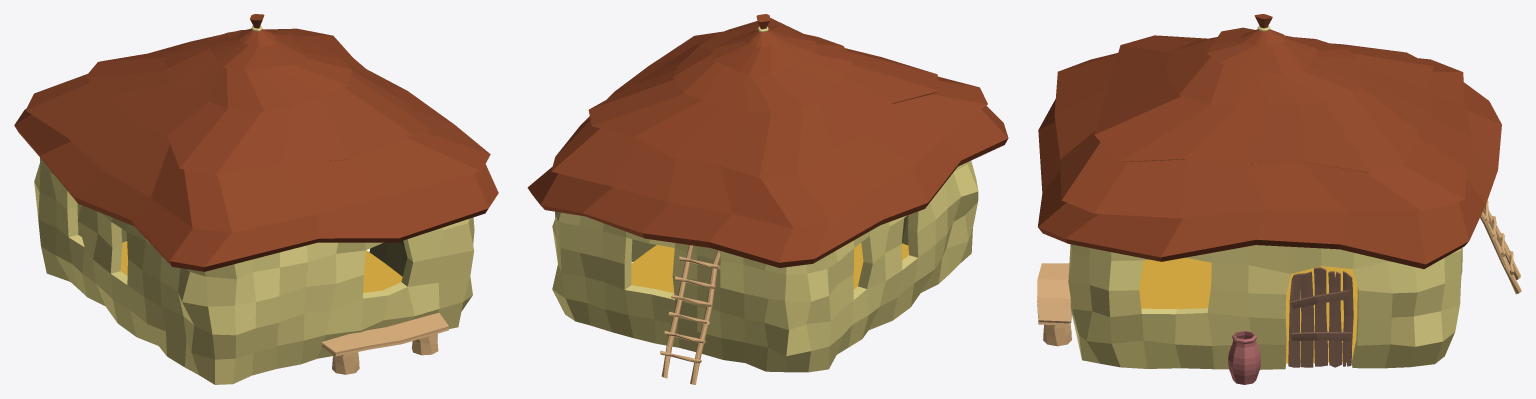
The model's file is casa3.fbx.
The picture shows the model from 3 angles, left to right: view 1: azimuth 30°, elevation 25°; view 2: azimuth 150°, elevation 25°; view 3: azimuth 270°, elevation 25°; orthographic projection. The views are drawn at different scales.
Visible parts, largest first — view 1: Plane.001; view 2: Plane.001; view 3: Plane.001.
Part boxes in pixels (x1=…): Plane.001: x1=14, y1=14, x2=498, y2=384; Plane.001: x1=527, y1=14, x2=1008, y2=384; Plane.001: x1=1037, y1=14, x2=1521, y2=384.
Size of the model in its own units: 600 by 457 by 693.
